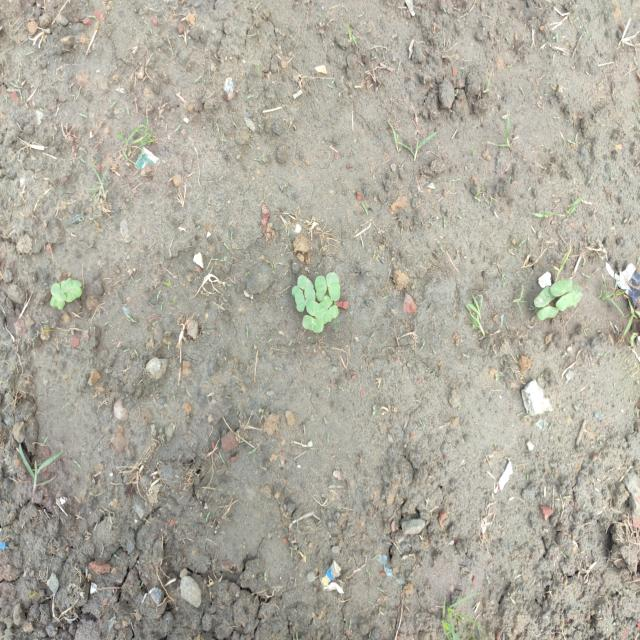seedling: (326, 272, 341, 301), (534, 287, 554, 307), (302, 315, 324, 333), (550, 279, 573, 296), (556, 292, 575, 311), (321, 305, 339, 324), (314, 276, 327, 302), (306, 301, 325, 318), (537, 306, 559, 320), (61, 278, 82, 292), (50, 283, 66, 301), (569, 285, 582, 307), (66, 286, 82, 303), (297, 274, 314, 290), (294, 289, 305, 312), (304, 287, 316, 307), (50, 296, 64, 309), (320, 296, 332, 309)
